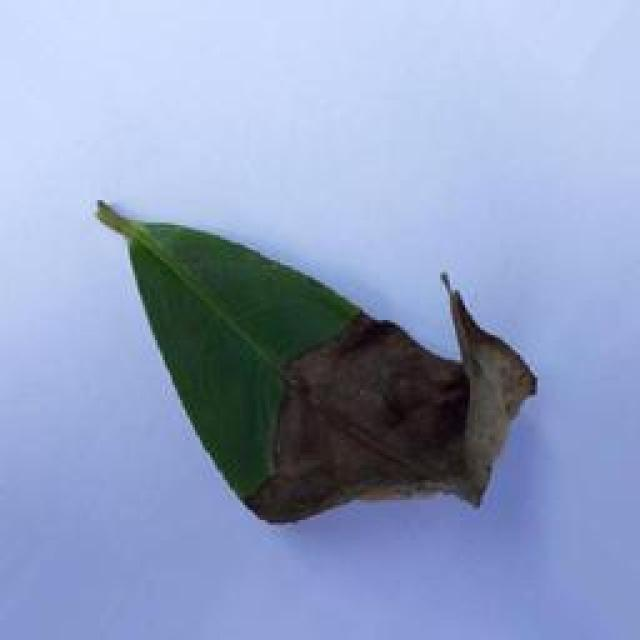Brown Blight: (86, 180, 548, 533)
